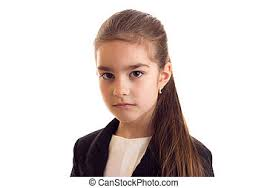person: (94, 9, 172, 124)
